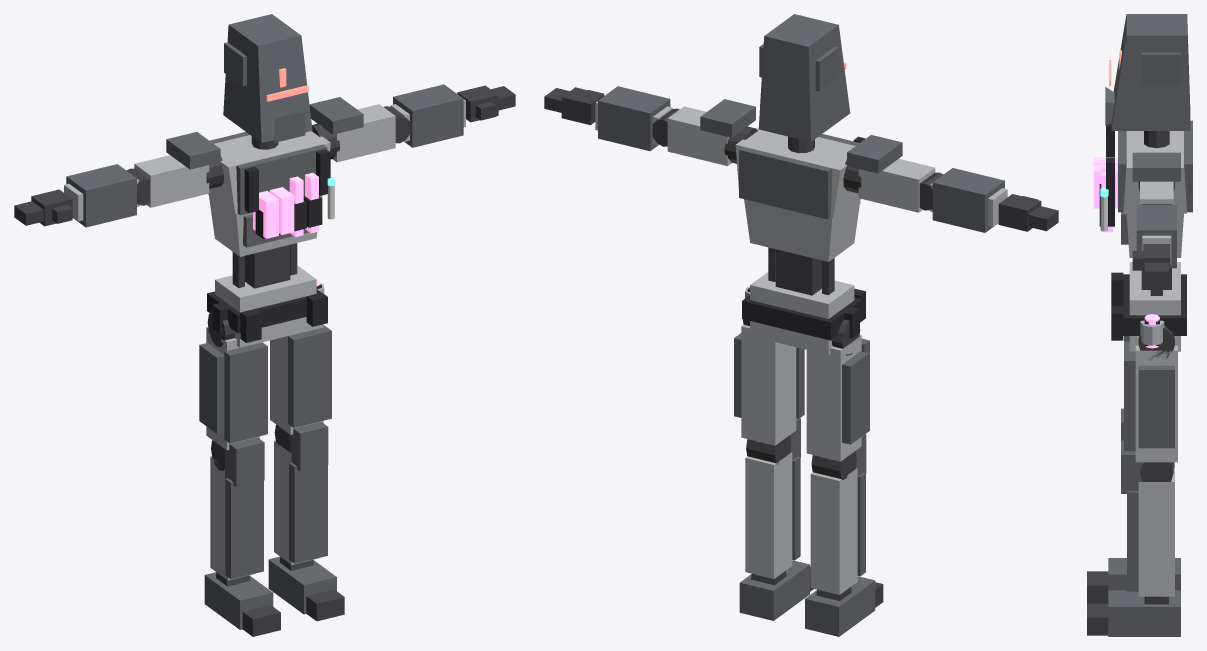
File: char_F2_marksman.glb
3 renders of one model, left to right at view 1: azimuth 30°, elevation 25°; view 2: azimuth 150°, elevation 25°; view 3: azimuth 270°, elevation 25°, orthographic. The views are drawn at different scales.
Visible parts, largest first — view 1: Head_mesh, UpperChest_mesh, LeftLowerLeg_mesh, RightLowerLeg_mesh, RightUpperLeg_mesh, Hips_mesh, LeftUpperLeg_mesh, RightLowerArm_mesh, RightUpperArm_mesh, LeftLowerArm_mesh, LeftUpperArm_mesh, Chest_mesh (+9 smaller); view 2: Head_mesh, UpperChest_mesh, RightLowerLeg_mesh, LeftLowerLeg_mesh, RightUpperLeg_mesh, LeftUpperLeg_mesh, Hips_mesh, Chest_mesh, RightLowerArm_mesh, RightUpperArm_mesh, LeftLowerArm_mesh, LeftUpperArm_mesh (+5 smaller); view 3: Head_mesh, LeftLowerLeg_mesh, LeftUpperLeg_mesh, UpperChest_mesh, Hips_mesh, LeftFoot_mesh, LeftUpperArm_mesh, LeftLowerArm_mesh, LeftHand_mesh, Chest_mesh, RightFoot_mesh, RightToes_mesh (+6 smaller).
Boxes of the visible parts, x1,y1,x2,y2 form: Head_mesh: (223,14,312,143); UpperChest_mesh: (208,131,330,238); LeftLowerLeg_mesh: (274,422,328,564); RightLowerLeg_mesh: (210,437,264,580); RightUpperLeg_mesh: (199,310,267,450); Hips_mesh: (207,265,327,347); LeftUpperLeg_mesh: (270,324,331,434); RightLowerArm_mesh: (64,164,149,227); RightUpperArm_mesh: (134,132,220,207); LeftLowerArm_mesh: (384,84,465,147); LeftUpperArm_mesh: (309,97,395,162); Chest_mesh: (209,195,322,256); Head_mesh: (758,14,850,141); UpperChest_mesh: (735,128,865,219); RightLowerLeg_mesh: (810,434,866,594); LeftLowerLeg_mesh: (745,418,800,578); RightUpperLeg_mesh: (806,319,869,461); LeftUpperLeg_mesh: (734,319,804,445); Hips_mesh: (742,272,865,354); Chest_mesh: (744,198,860,261); RightLowerArm_mesh: (919,168,1007,232); RightUpperArm_mesh: (847,135,935,212); LeftLowerArm_mesh: (595,86,679,150); LeftUpperArm_mesh: (667,99,755,166); Head_mesh: (1105,14,1190,130); LeftLowerLeg_mesh: (1121,440,1174,596); LeftUpperLeg_mesh: (1124,326,1177,462); UpperChest_mesh: (1099,120,1192,226); Hips_mesh: (1111,262,1186,351); LeftFoot_mesh: (1108,590,1180,636); LeftUpperArm_mesh: (1132,152,1180,204); LeftLowerArm_mesh: (1136,204,1176,268); LeftHand_mesh: (1132,244,1170,283); Chest_mesh: (1121,212,1183,257); RightFoot_mesh: (1108,558,1180,590); RightToes_mesh: (1087,571,1108,603).
Size of the model in its own units: 1.69 by 1.88 by 0.3071.
